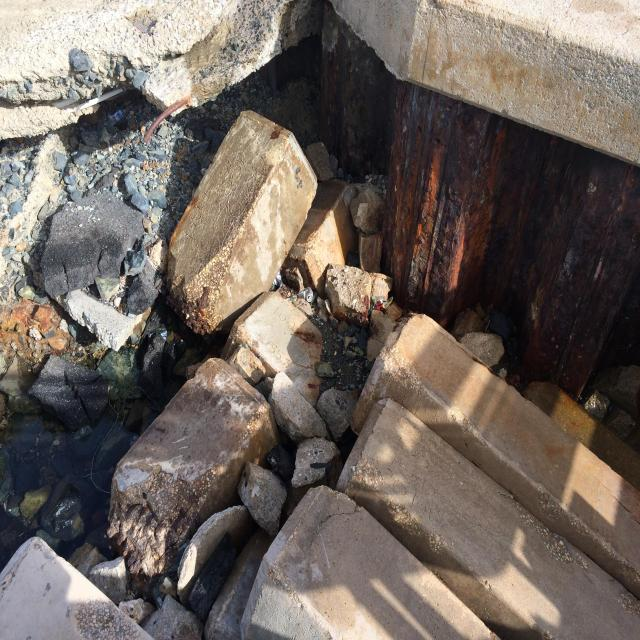litter: (108, 109, 126, 124), (372, 296, 393, 308), (369, 301, 380, 315), (306, 287, 313, 302)
